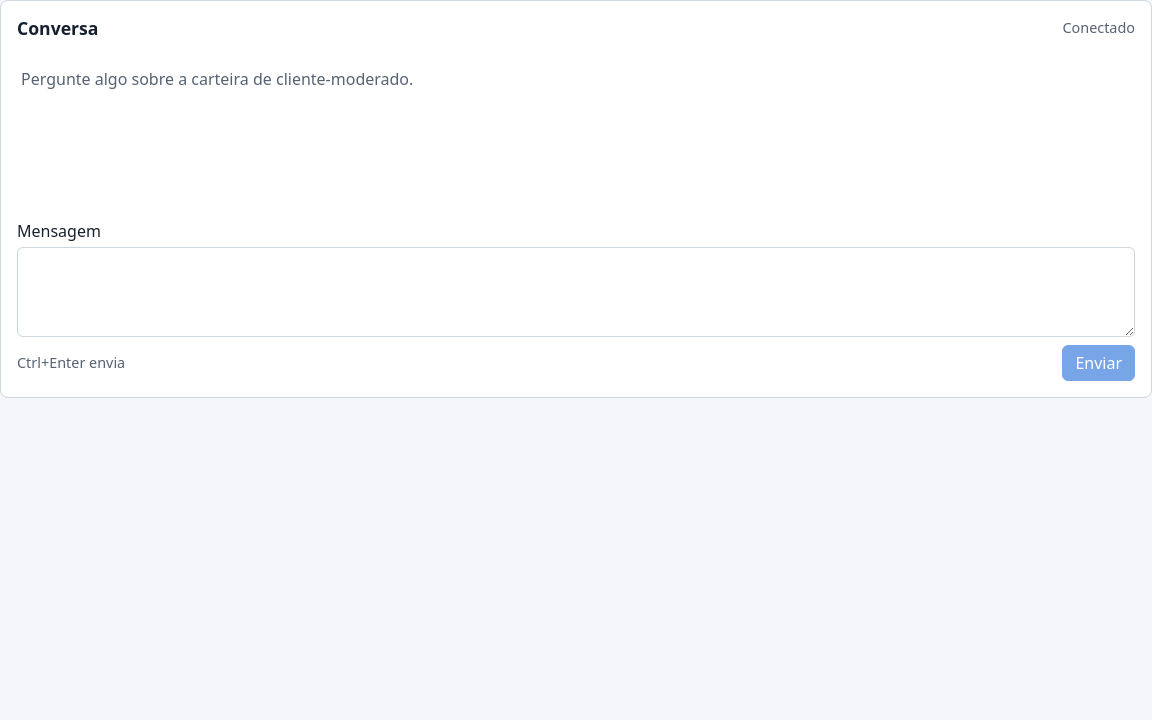
Test case: ChatView › plan → agent_started → token×3 → agent_result → done renderiza o card do Insight e o custo
The image size is (1152, 720).
Later steps or results of the test are not shown.
Check: the text "Conectado" is shown, box [1062,17,1135,39]
Type "Como está minha carteira?" into the text box labelled "Mensagem" at (576, 292), box [17,247,1135,337]
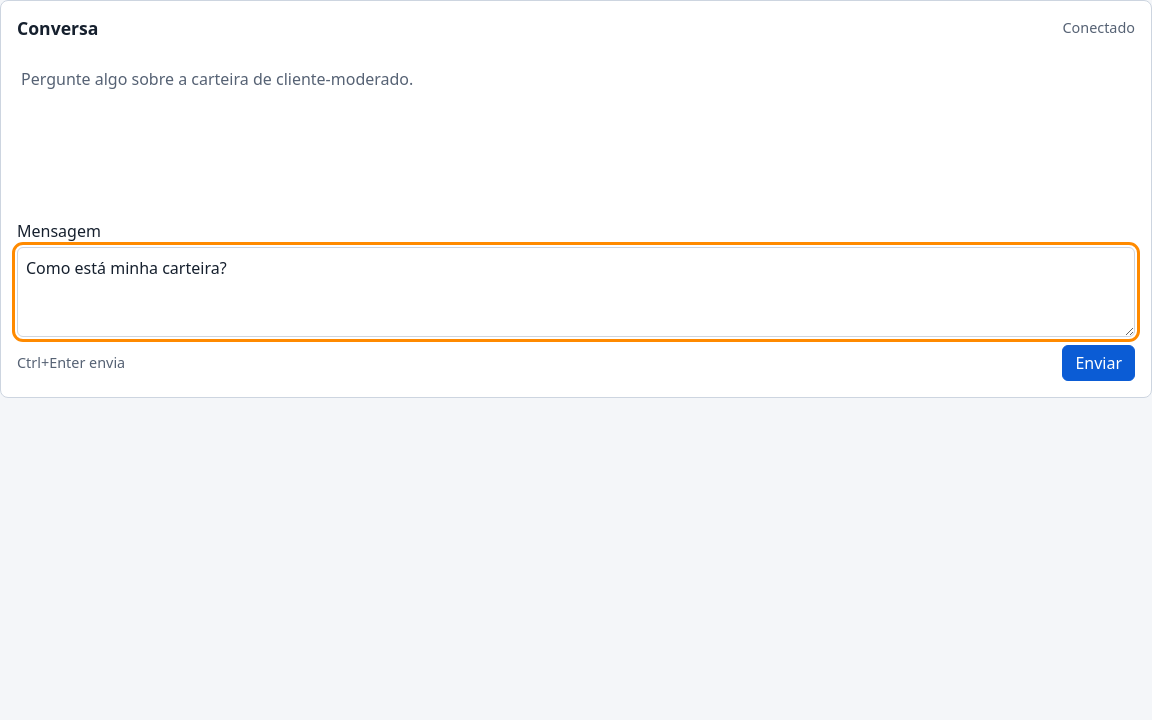
Click the button "Enviar" at (1099, 363), box [1062,345,1135,381]
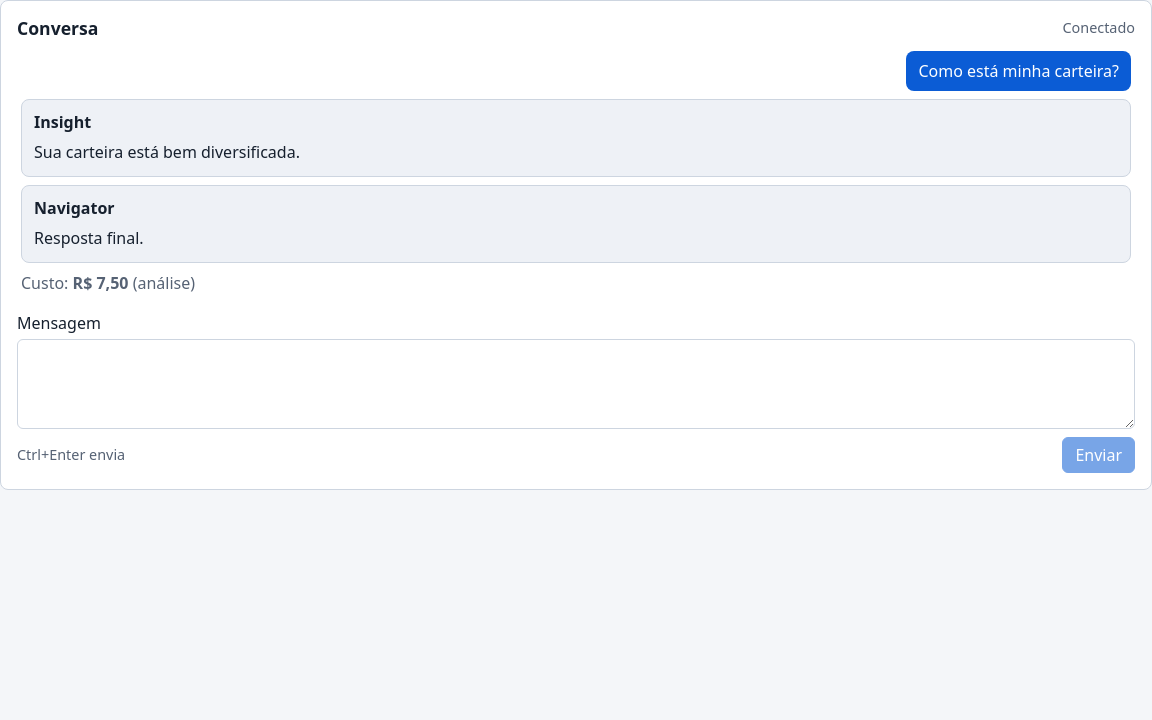
Check: the text box labelled "Mensagem" is enabled, box [17,339,1135,429]
Check: the text "Sua carteira está bem diversificada." is shown, box [34,141,300,163]
Check: the text "R$ 7,50" is shown, box [73,272,128,294]
